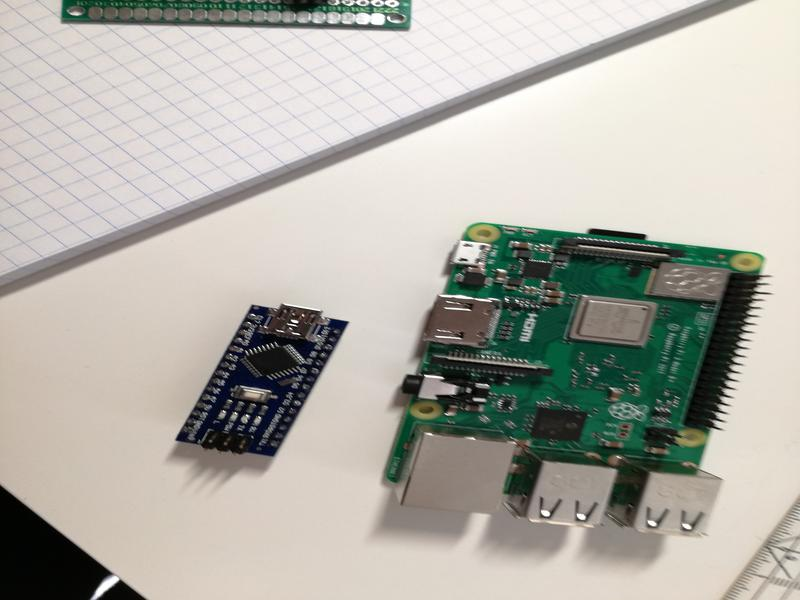Arduino_Nano: (175, 301, 351, 459)
Raspberry_Pi_3: (383, 213, 770, 540)
